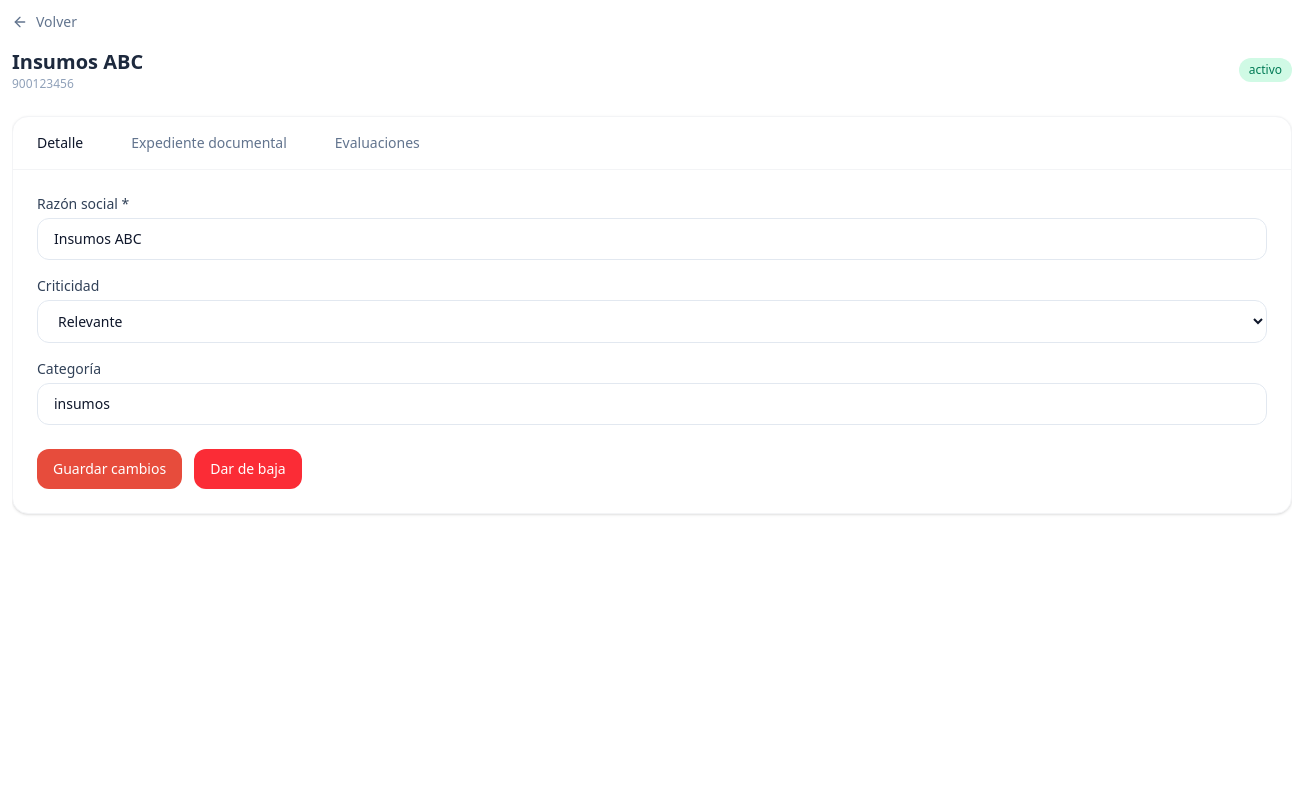
Test: ProveedorDetalle › only shows requisitos applicable to the proveedor criticidad
Expected: the heading "Insumos ABC" is shown, left=12, top=48, right=143, bottom=76
Click the tab "Expediente documental" at (209, 143), box left=107, top=117, right=311, bottom=169
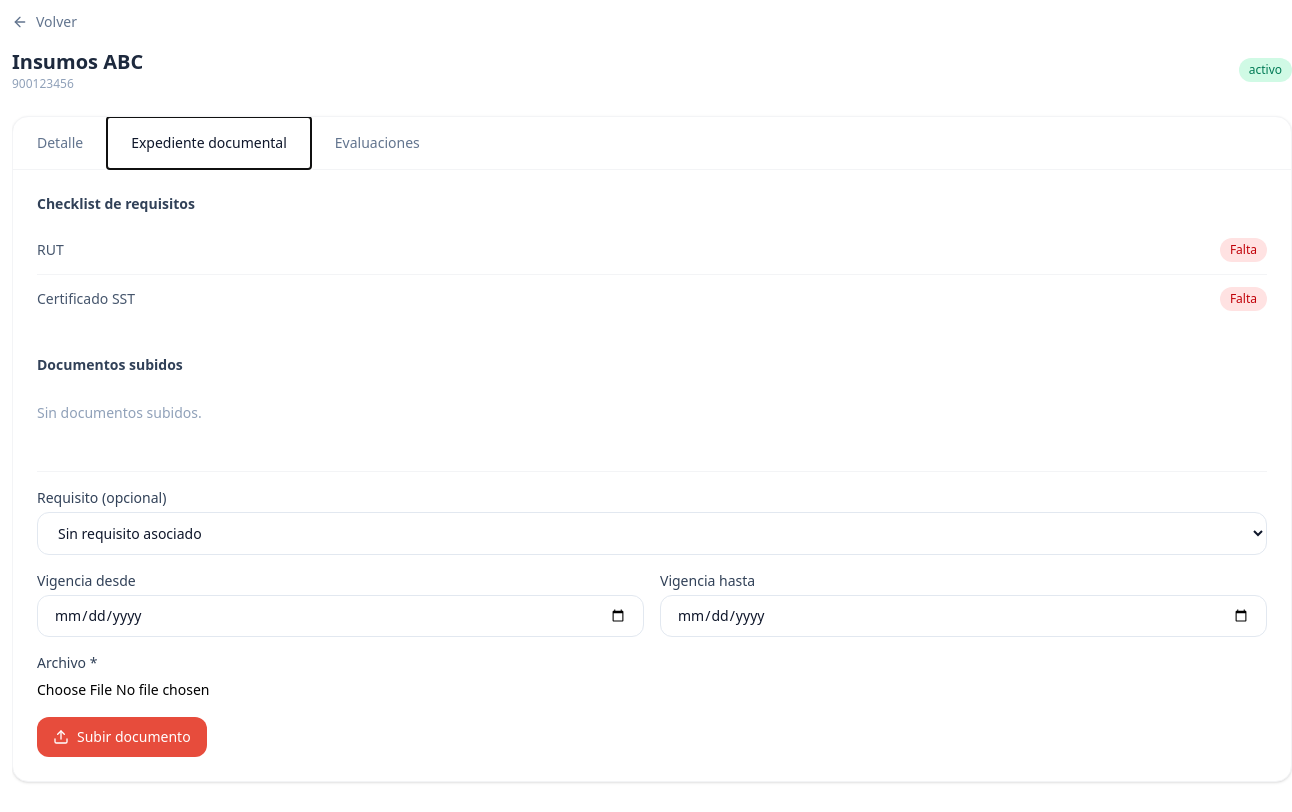
Expected: the text "RUT" is shown, left=37, top=240, right=64, bottom=260
Expected: the text "Certificado SST" is shown, left=37, top=289, right=135, bottom=309
